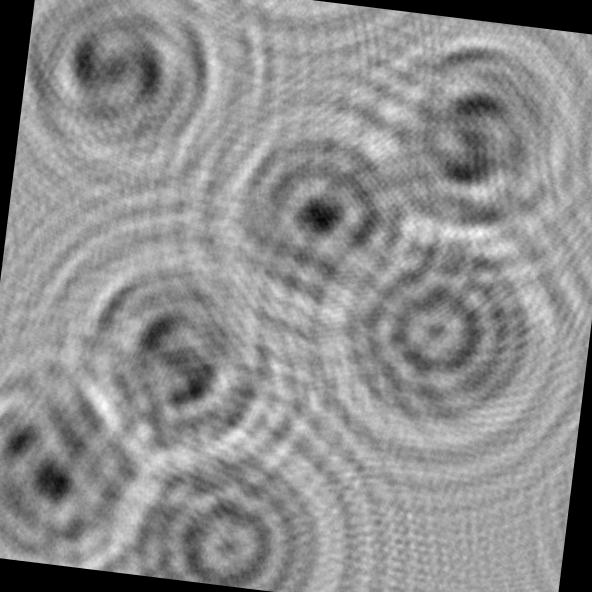P: (185, 51, 462, 344)
Q: (300, 186, 592, 482), (86, 385, 385, 592)
R: (0, 325, 187, 577)
S: (41, 231, 306, 510), (348, 7, 592, 266), (12, 0, 256, 206)
